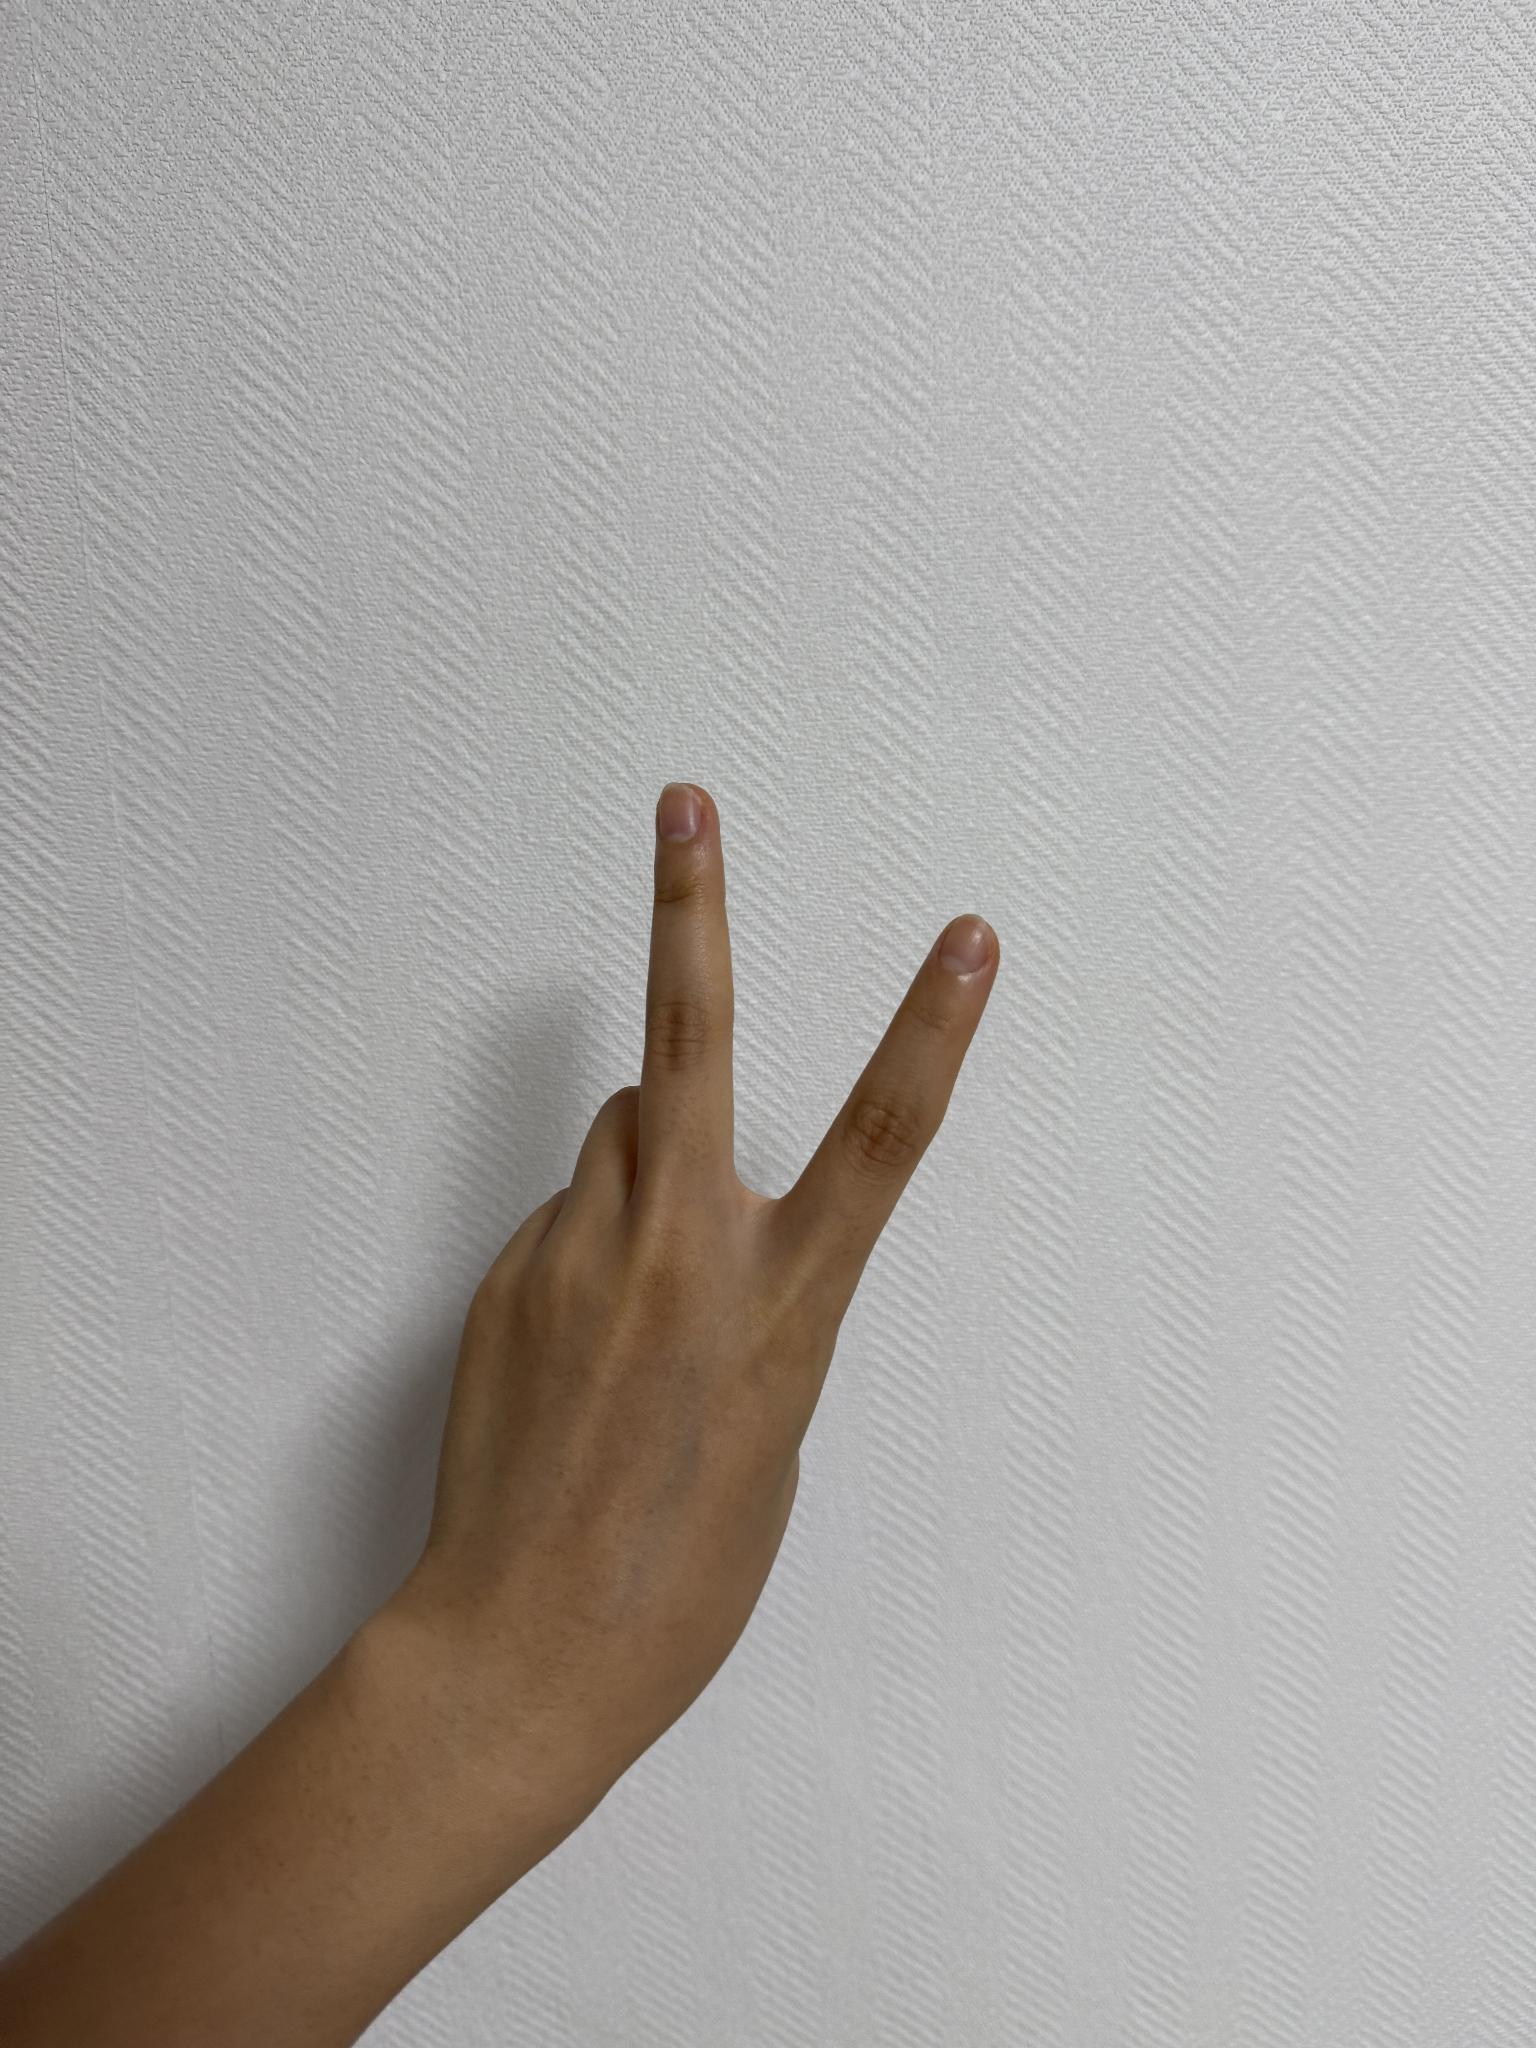v: (361, 771, 1002, 1780)
